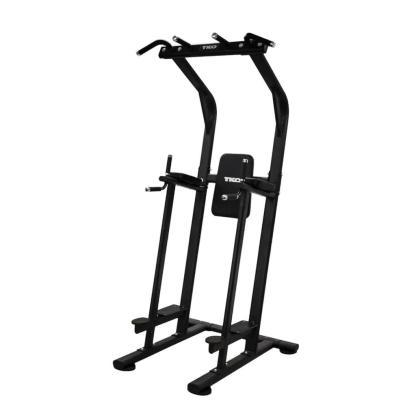chinning dipping: (112, 32, 299, 397)
